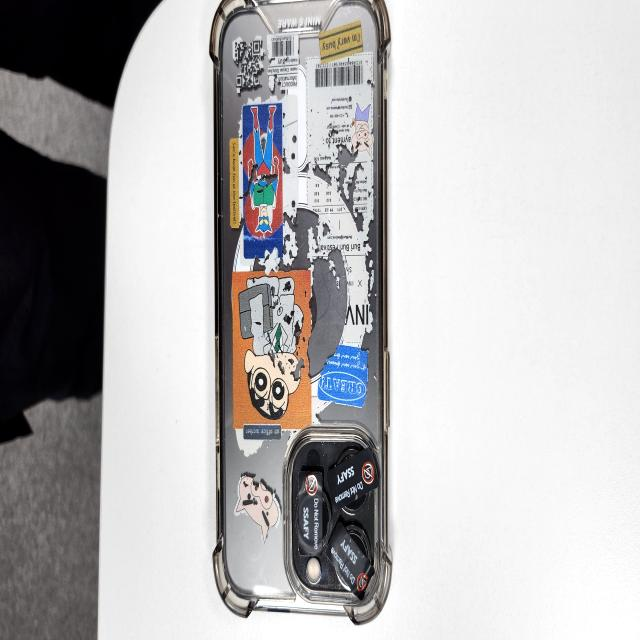phone: (207, 0, 395, 625)
sticker: (328, 519, 373, 601), (330, 450, 376, 510), (298, 466, 322, 555)
